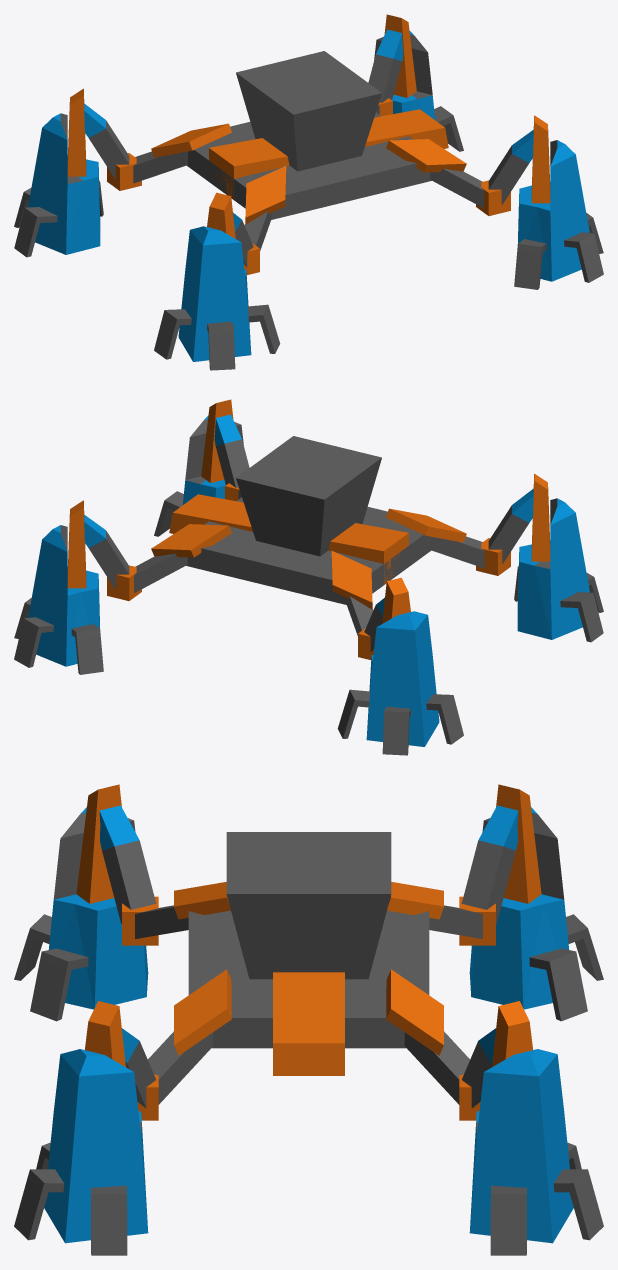
Rendered from LegLight.fbx.
3 views of the same model, one above another, from view 1: azimuth 30°, elevation 25°; view 2: azimuth 150°, elevation 25°; view 3: azimuth 270°, elevation 25° (orthographic). The views are drawn at different scales.
Visible parts, largest first — view 1: meka.Y.U; view 2: meka.Y.U; view 3: meka.Y.U.
Part boxes in pixels (x1,y1,x2,y2): meka.Y.U: (14,14,603,370); meka.Y.U: (14,399,603,755); meka.Y.U: (14,784,603,1255).
Size of the model in its own units: 29.99 by 11 by 24.51.
